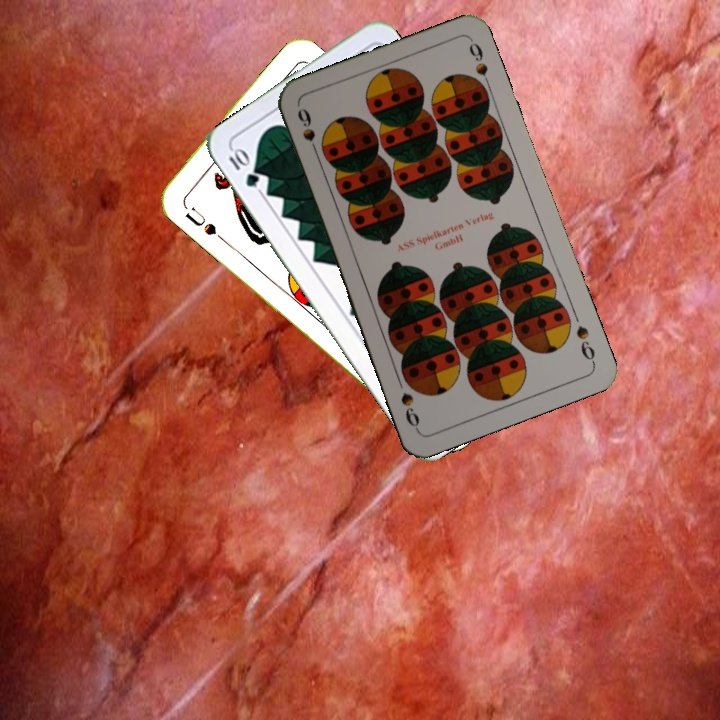G10: (224, 144, 262, 190)
S9: (293, 104, 322, 161), (572, 321, 598, 366)
SU: (181, 202, 219, 238)
